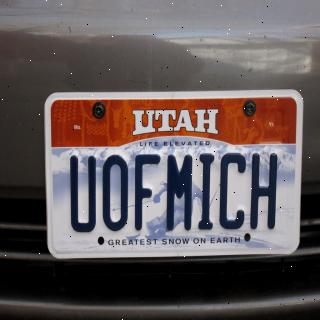license: (42, 86, 305, 263)
